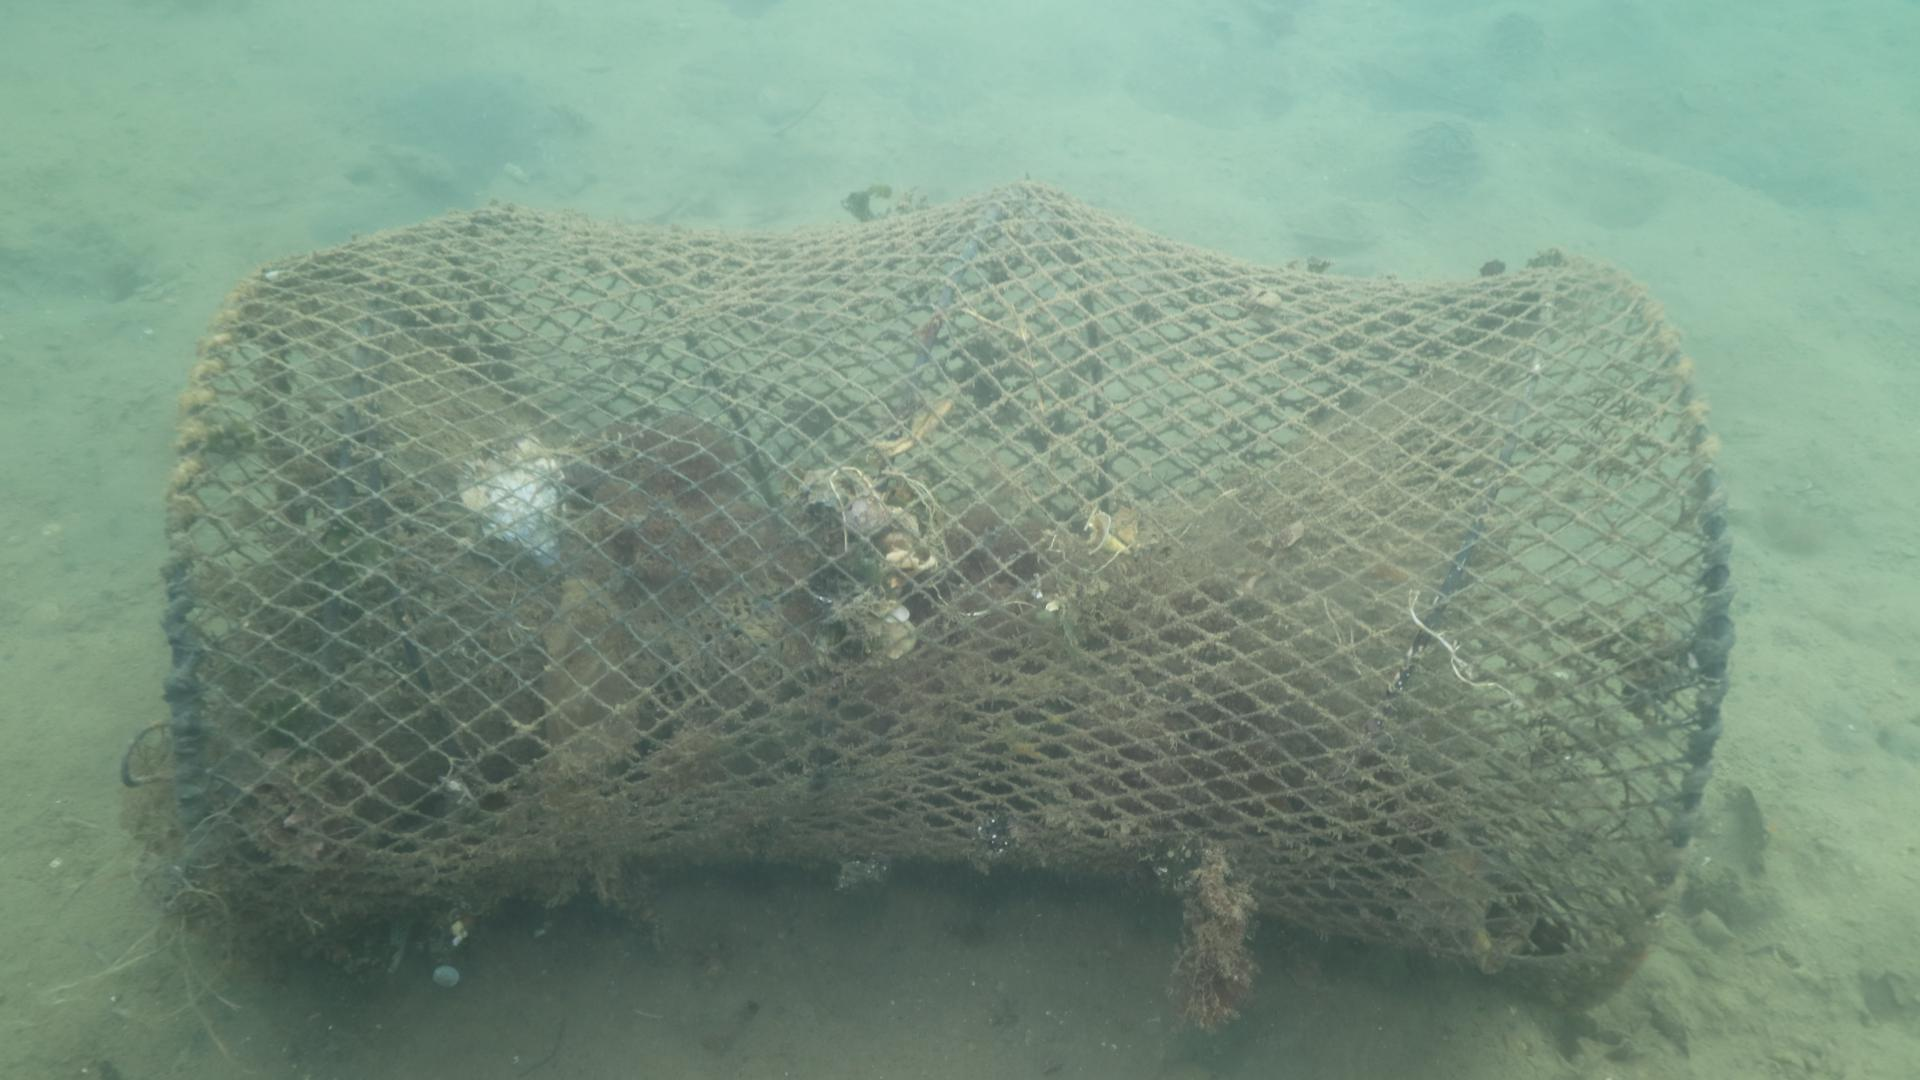spring fish trap: (152, 181, 1725, 1010)
